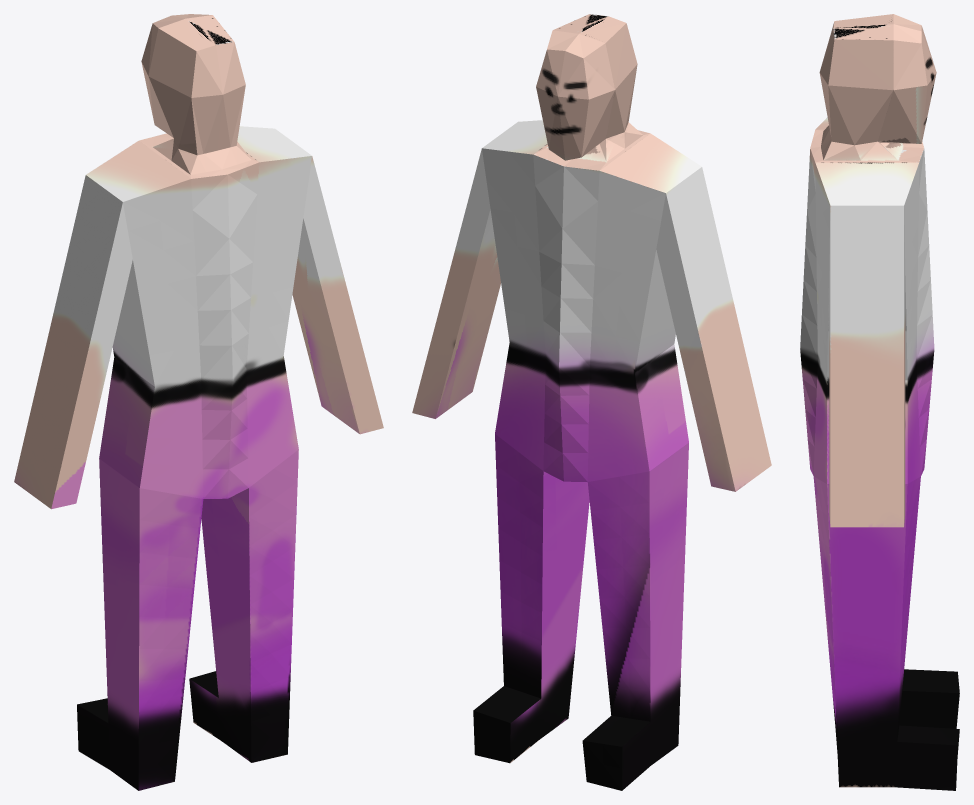
Rendered from person.obj.
3 views of the same model, side by side, from view 1: azimuth 30°, elevation 25°; view 2: azimuth 150°, elevation 25°; view 3: azimuth 270°, elevation 25° (orthographic). The views are drawn at different scales.
Parts seen in each view (by area): view 1: Cube; view 2: Cube; view 3: Cube.
Boxes of the visible parts, left/top/right/bottom form: Cube: left=14, top=14, right=383, bottom=790; Cube: left=412, top=14, right=771, bottom=790; Cube: left=800, top=14, right=959, bottom=790.
Bounding box in the file's own units: 4.39 × 9.3 × 1.84.
Materials: 1 (1 with a texture image).
